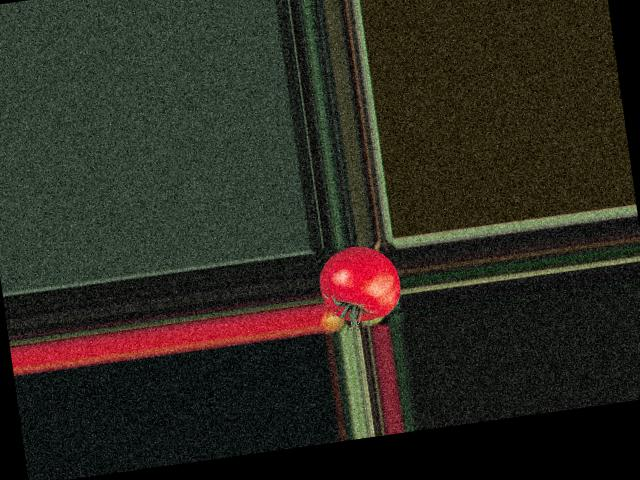tomato: (316, 240, 404, 325)
